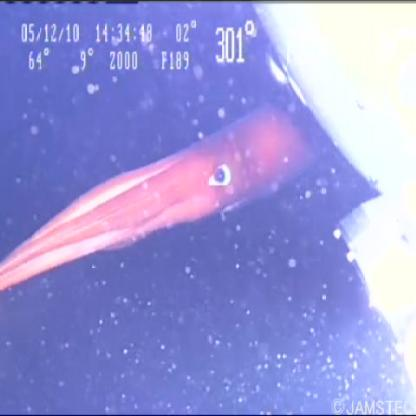Bio: (1, 91, 321, 295)
